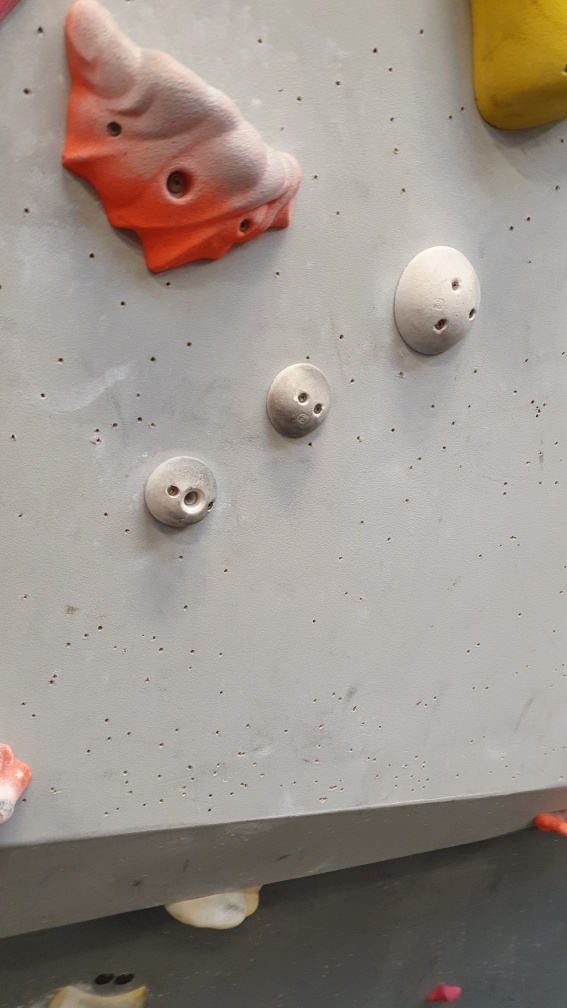Hand Start: (92, 968, 117, 991), (114, 968, 139, 988)
Jug: (55, 1, 305, 281)
Sloper: (391, 244, 484, 360), (143, 452, 220, 531), (263, 360, 337, 441)
